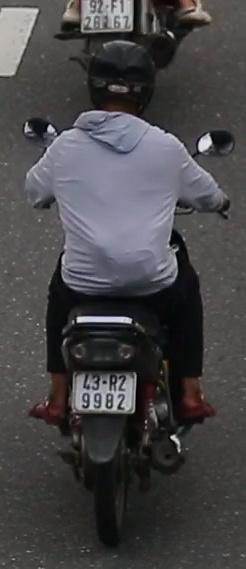LP: (70, 364, 141, 417)
helmet: (84, 37, 159, 124)
